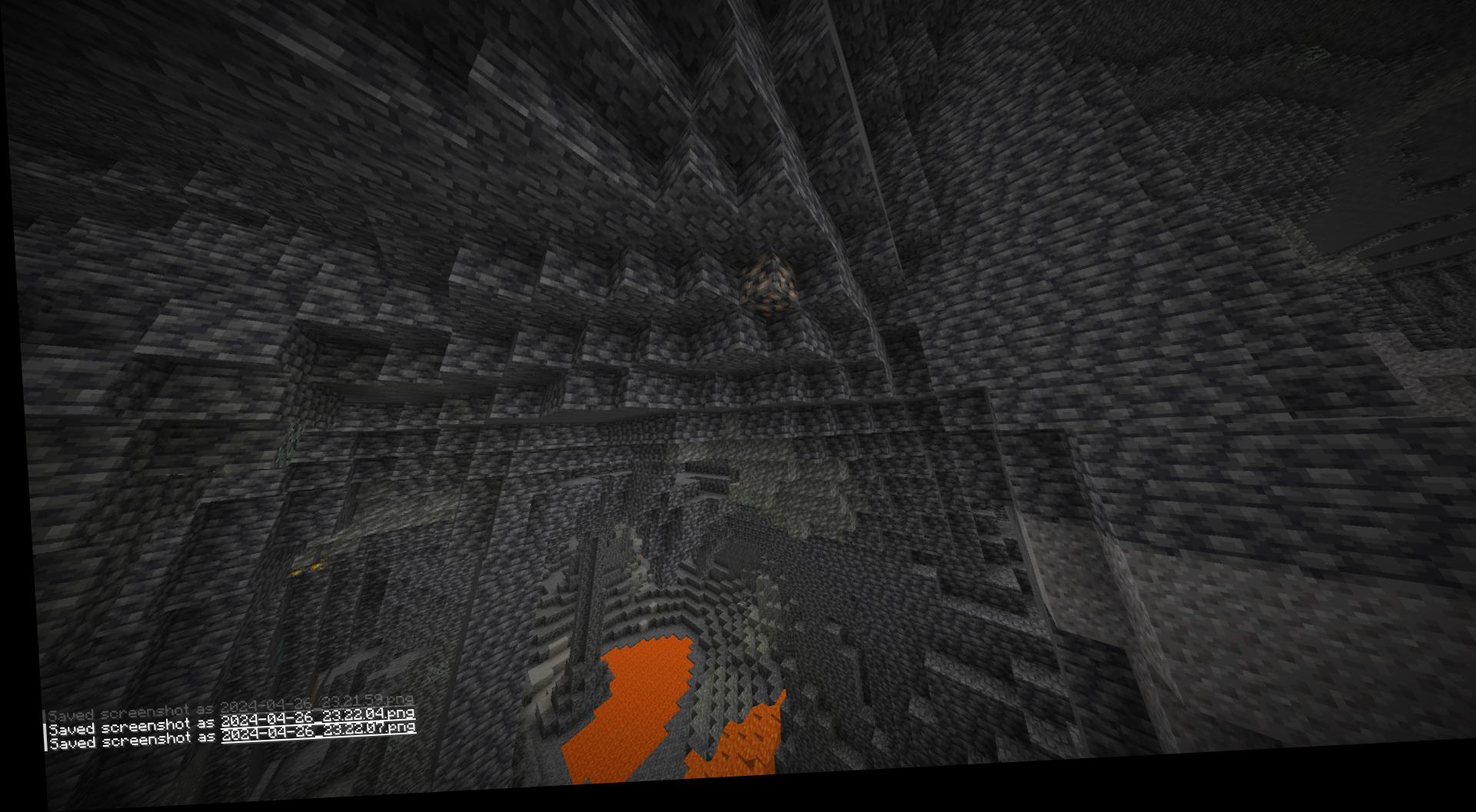iron ore: (740, 260, 795, 321)
